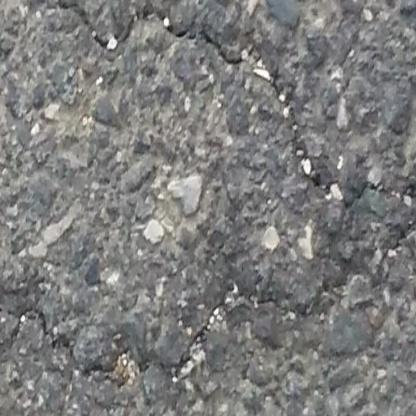Cracks: (44, 0, 416, 218), (0, 226, 416, 393)
